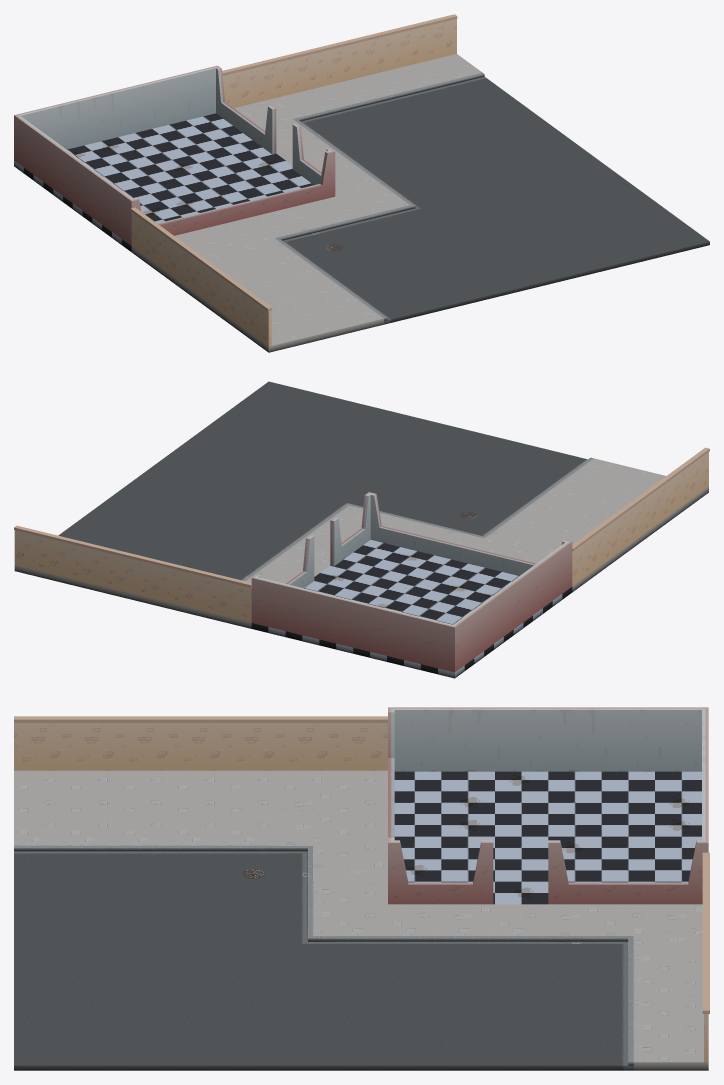
File: DoubleCooked_Room02.fbx
3 views of the same model, one above another, from view 1: azimuth 30°, elevation 25°; view 2: azimuth 150°, elevation 25°; view 3: azimuth 270°, elevation 25° (orthographic). The views are drawn at different scales.
Visible parts, largest first — view 1: DoubleCooked_Room02; view 2: DoubleCooked_Room02; view 3: DoubleCooked_Room02.
Part boxes in pixels (bbox=[...]): DoubleCooked_Room02: bbox=[14, 14, 709, 352]; DoubleCooked_Room02: bbox=[14, 381, 709, 678]; DoubleCooked_Room02: bbox=[14, 707, 709, 1070].
Size of the model in its own units: 1303 by 144 by 1303.
